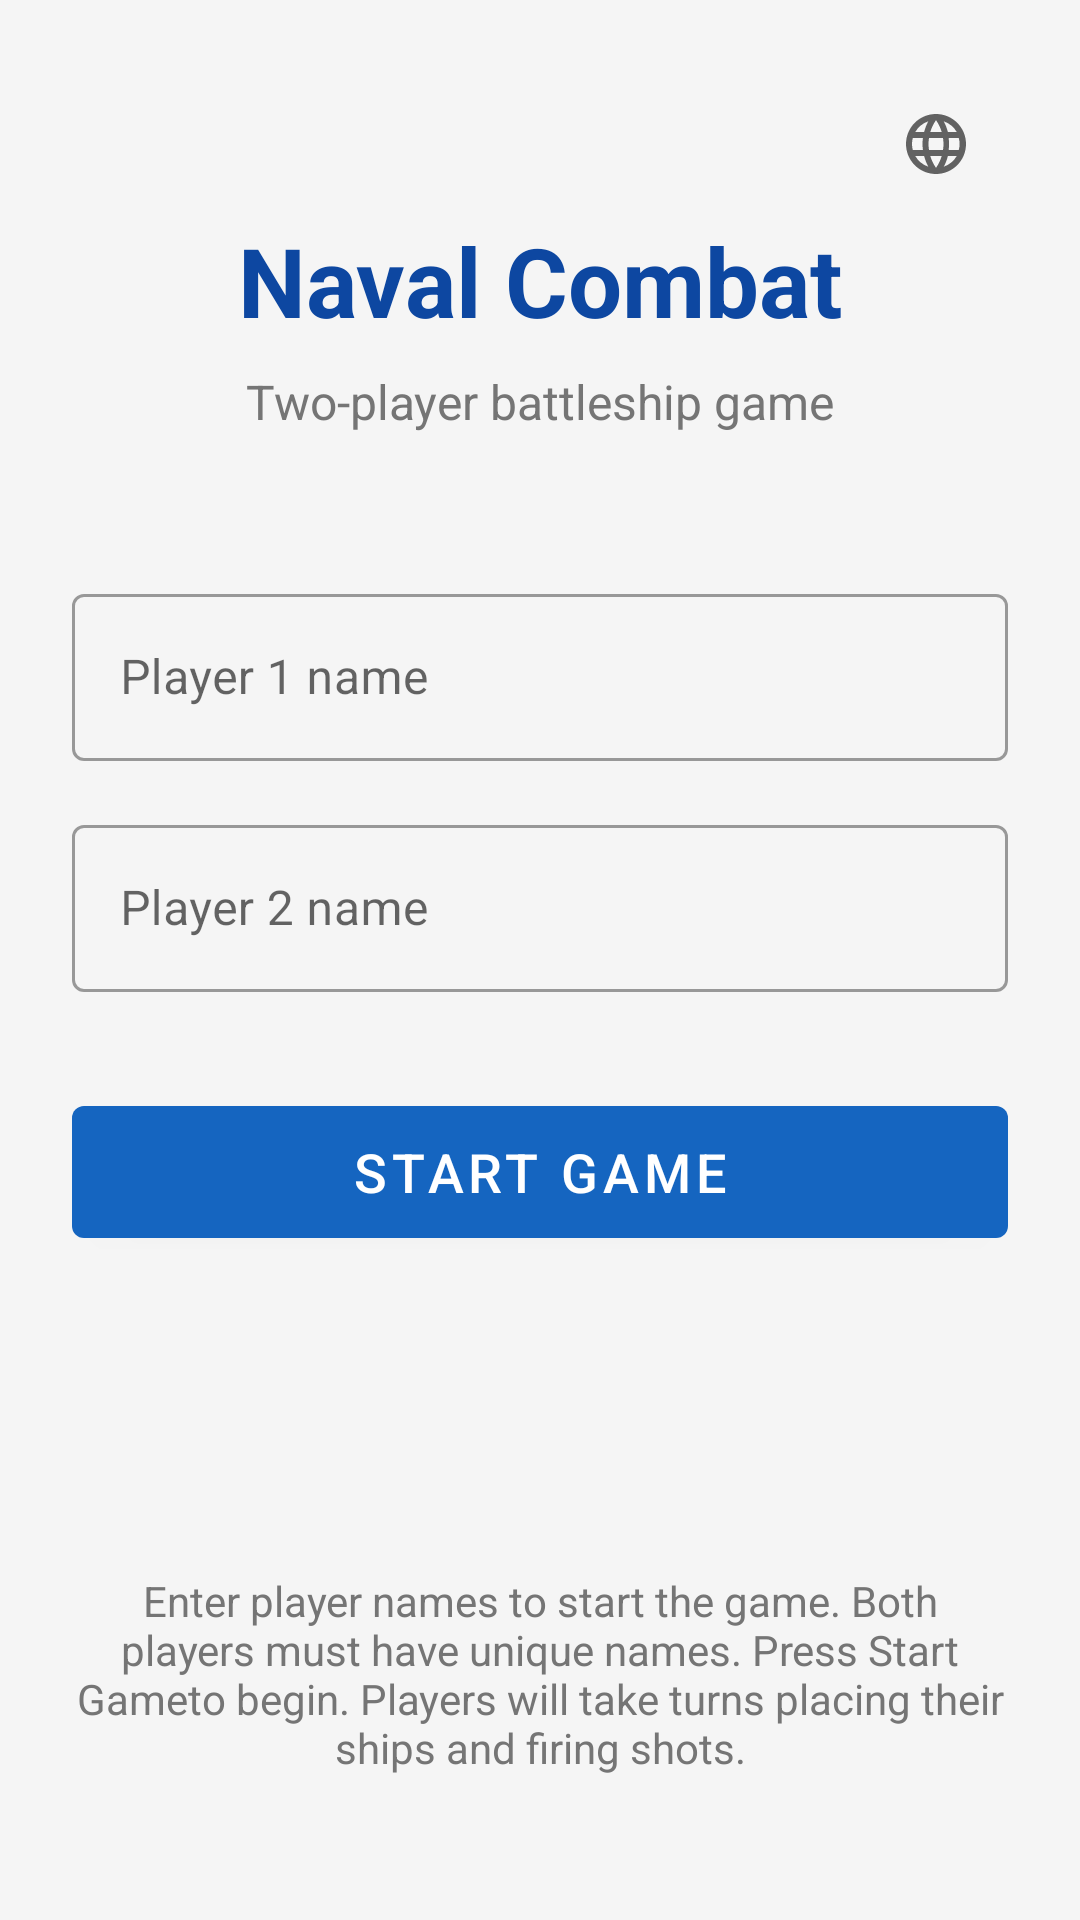

Icons on this 1080×1920 Android screen, each with its box as [x1,y1,x2,y2]:
Switch Language: [906,114,966,174]
